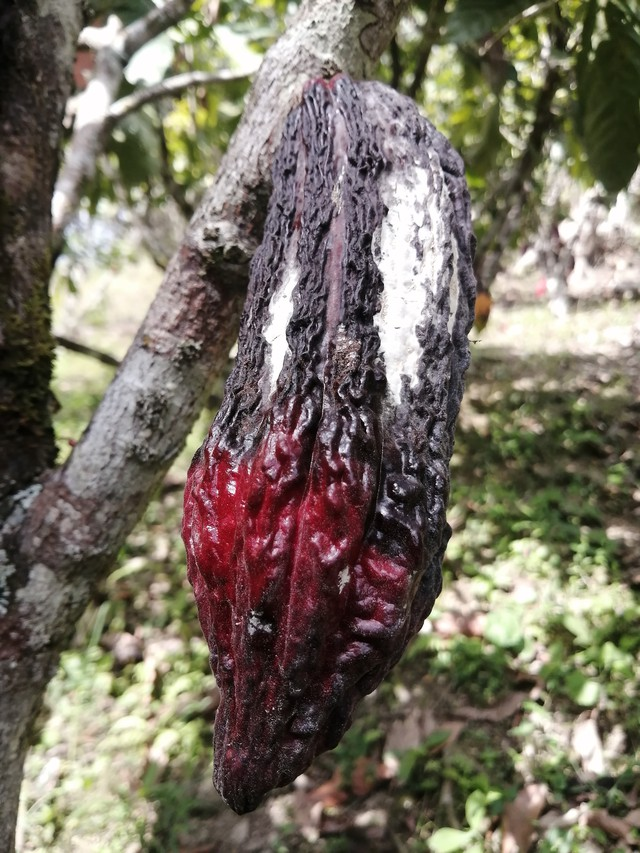moniliophthora roreri: (162, 62, 497, 822)
